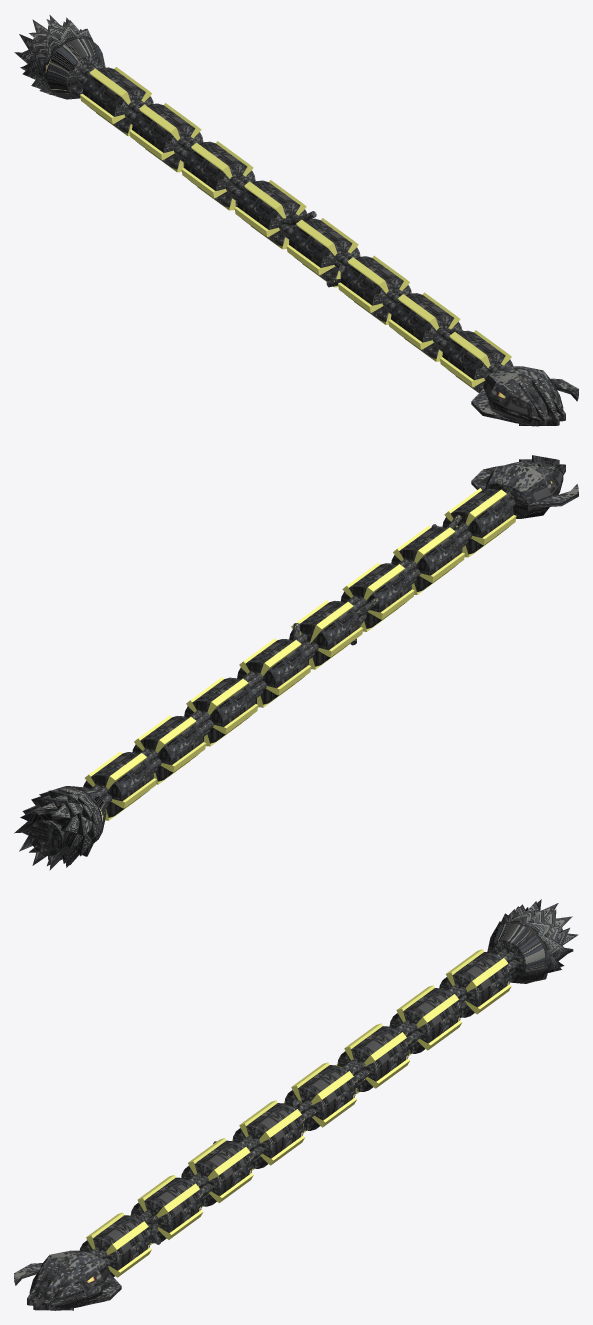
The model's file is Enemy2_2.fbx.
3 views of the same model, one above another, from view 1: azimuth 30°, elevation 25°; view 2: azimuth 150°, elevation 25°; view 3: azimuth 330°, elevation 25° (orthographic).
Visible parts, largest first — view 1: tail1, head, body5, body7, body2, body3, body6, body4, body8, body1, tail2; view 2: head, body6, body5, body2, body3, body7, body1, body8, body4, tail4, tail3, tail5 (+2 smaller); view 3: tail1, head, body6, body5, body7, body3, body8, body4, body2, body1, tail2.
Part boxes in pixels (box(x1,y1,x2,y2)): tail1: box(30, 23, 105, 99); head: box(483, 366, 563, 426); body5: box(181, 141, 255, 210); body7: box(129, 103, 203, 172); body2: box(388, 292, 461, 361); body3: box(286, 218, 360, 287); body6: box(234, 180, 307, 249); body4: box(338, 255, 411, 324); body8: box(80, 67, 153, 136); body1: box(439, 330, 513, 392); tail2: box(24, 20, 93, 94); head: box(484, 460, 563, 518); body6: box(237, 638, 311, 707); body5: box(184, 677, 258, 746); body2: box(391, 526, 464, 594); body3: box(289, 600, 363, 669); body7: box(132, 715, 206, 784); body1: box(442, 488, 516, 557); body8: box(83, 751, 156, 820); body4: box(341, 562, 414, 631); tail4: box(14, 802, 82, 870); tail3: box(22, 794, 91, 867); tail5: box(29, 820, 64, 855); tail1: box(487, 909, 563, 983); head: box(29, 1250, 109, 1310); body6: box(283, 1062, 356, 1132); body5: box(335, 1023, 409, 1093); body7: box(388, 985, 462, 1055); body3: box(232, 1100, 304, 1170); body8: box(439, 949, 511, 1017); body4: box(181, 1138, 253, 1207); body2: box(130, 1175, 202, 1245); body1: box(79, 1212, 151, 1277); tail2: box(500, 904, 568, 972).
Bounding box in the file's own units: 257 × 180 × 2393.
